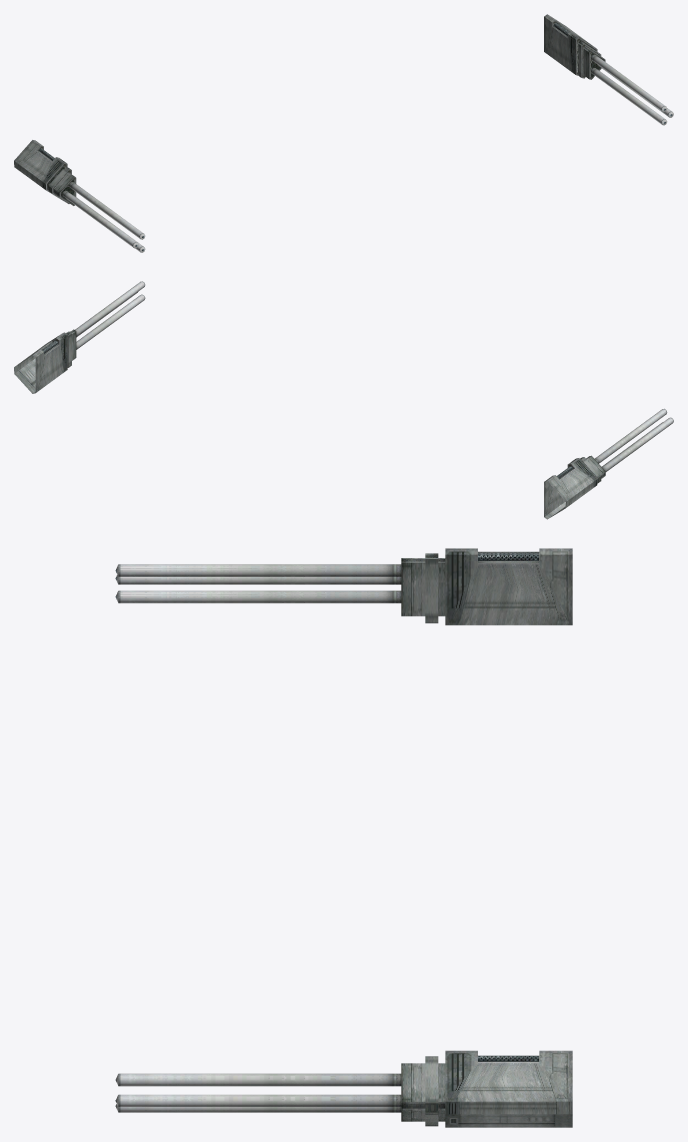
The model's file is black_sun_fighter_light_weapon_s04_l0.fbx.
3 renders of one model, top to bottom at view 1: azimuth 30°, elevation 25°; view 2: azimuth 150°, elevation 25°; view 3: azimuth 270°, elevation 25°, orthographic. The views are drawn at different scales.
Visible parts, largest first — view 1: mesh_node; view 2: mesh_node; view 3: mesh_node.
Boxes of the visible parts, <box> form: mesh_node: <box>14,14,673,252</box>; mesh_node: <box>14,281,673,519</box>; mesh_node: <box>115,548,572,1127</box>.
Size of the model in its own units: 11.7 by 0.7808 by 4.2.
